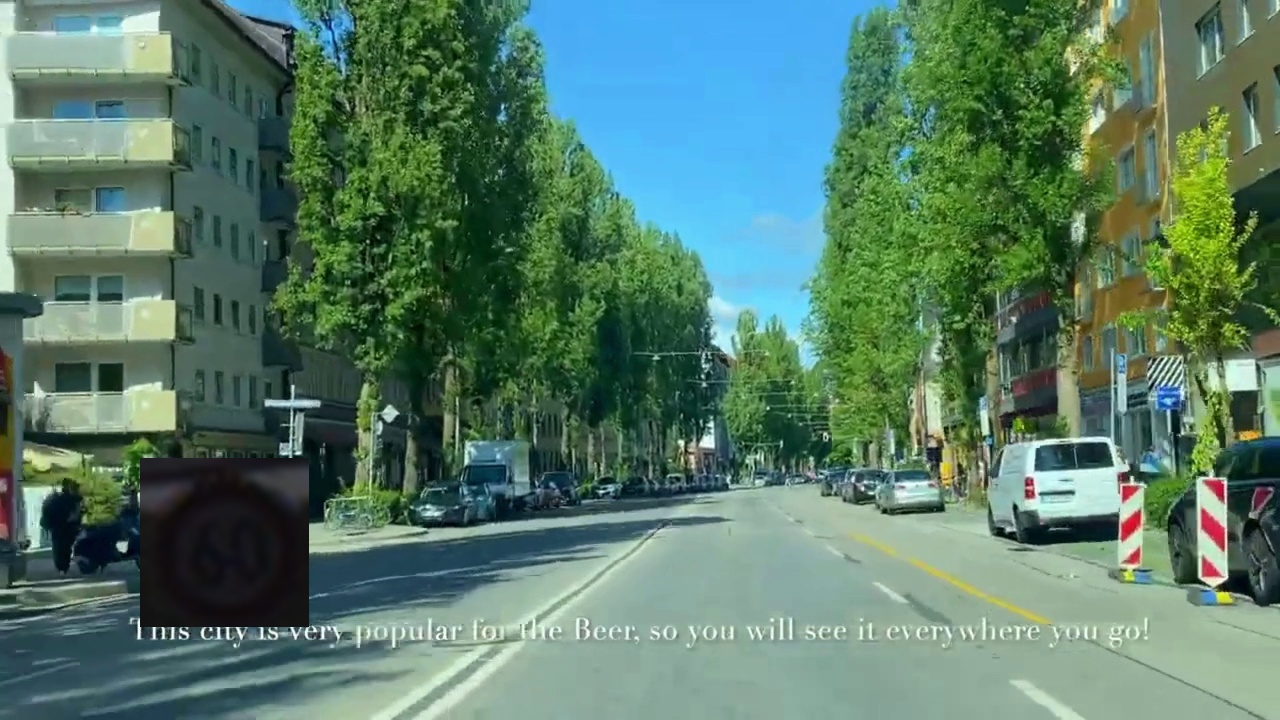Speed 60: (140, 458, 309, 627)
